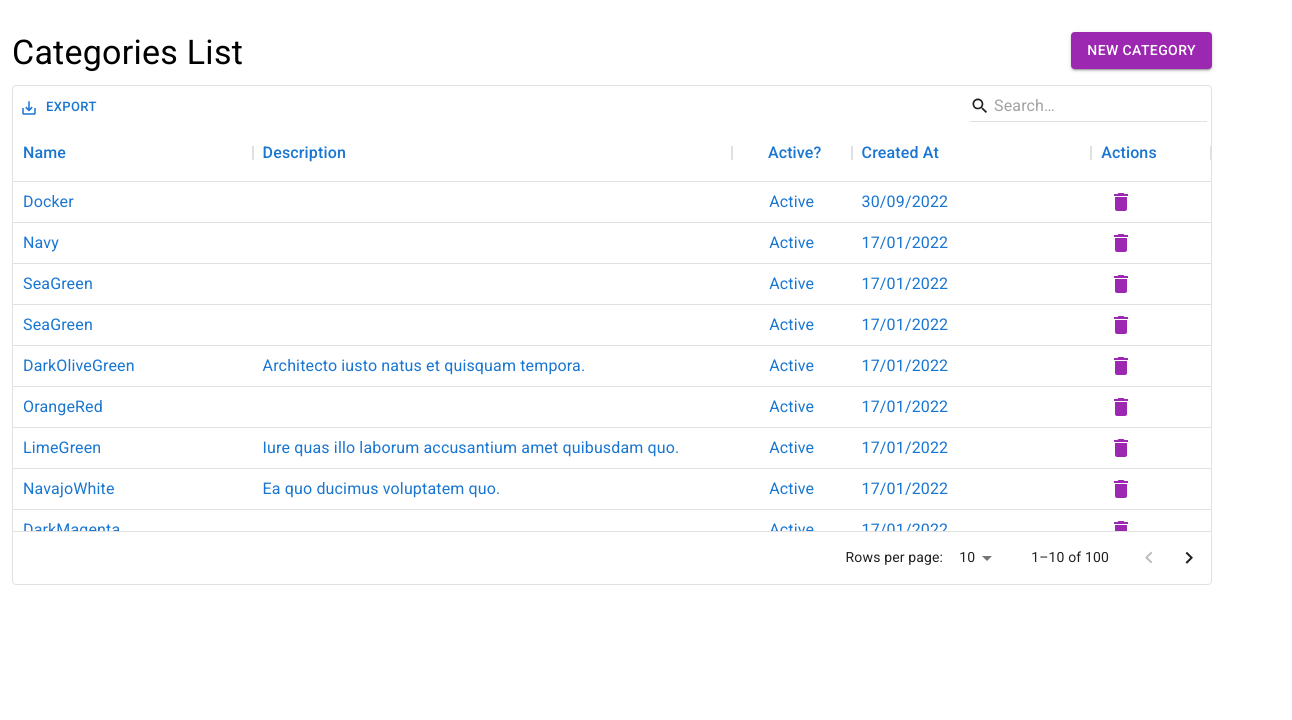
CategoryList › should handle delete category error
Check: the text "Docker" is shown, box [23,190,74,214]
Click the button with test id "delete-button" in the row of "Docker": (1121, 202) [1101,182,1141,222]
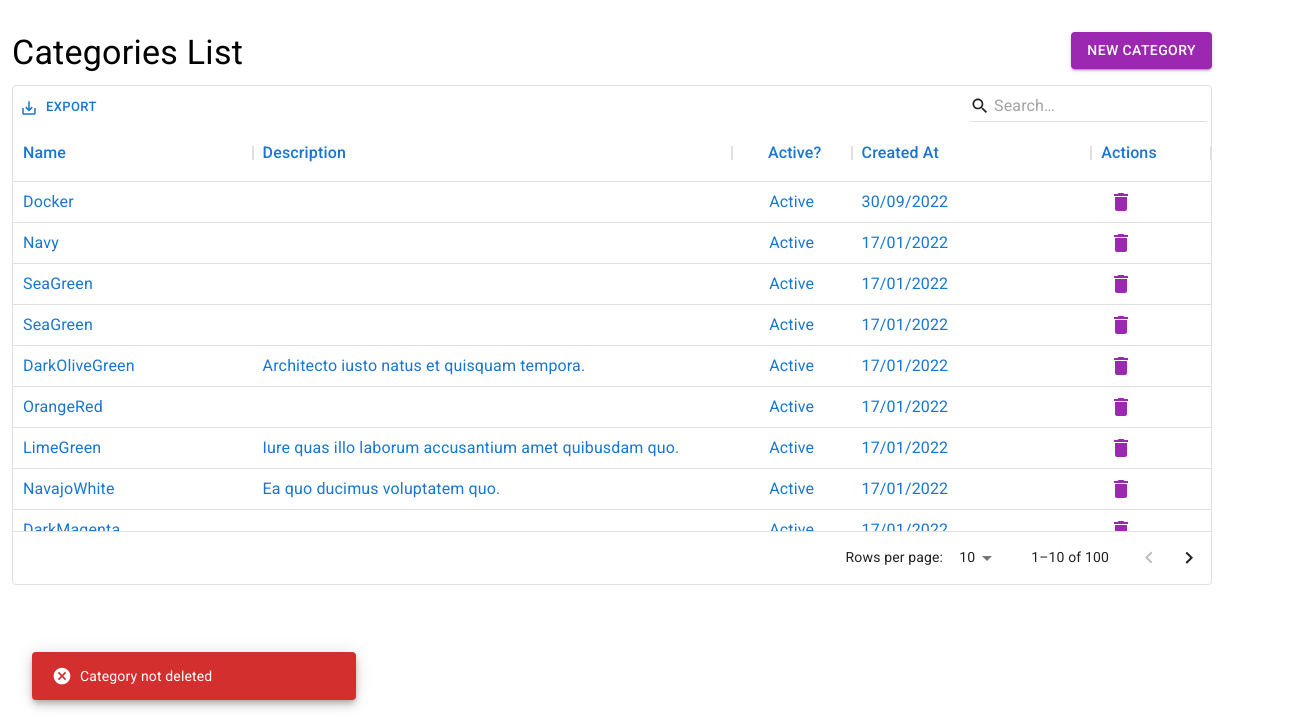
Check: the text "Category not deleted" is shown, box [52,666,212,686]
